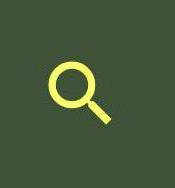ImgButton: (1, 1, 174, 187)
